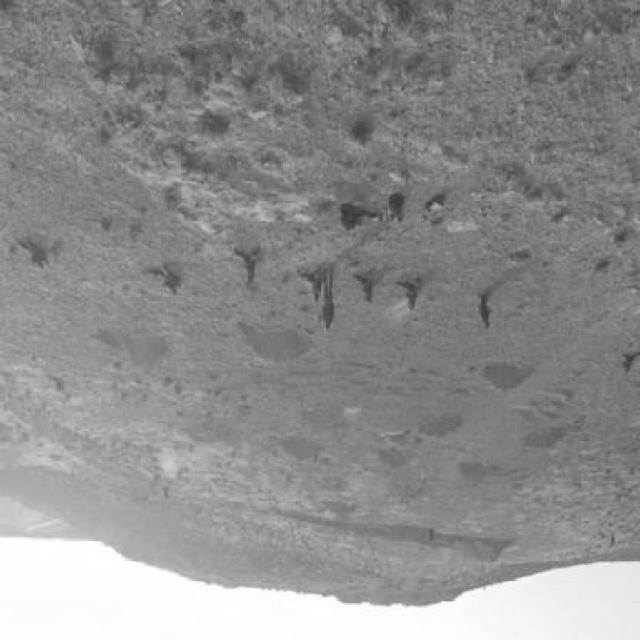Person: (336, 206, 383, 239), (14, 240, 51, 273), (232, 249, 261, 290), (146, 268, 185, 297), (320, 271, 337, 336), (297, 271, 323, 308), (397, 279, 423, 314), (353, 270, 374, 309), (474, 296, 491, 335), (619, 349, 637, 382)
